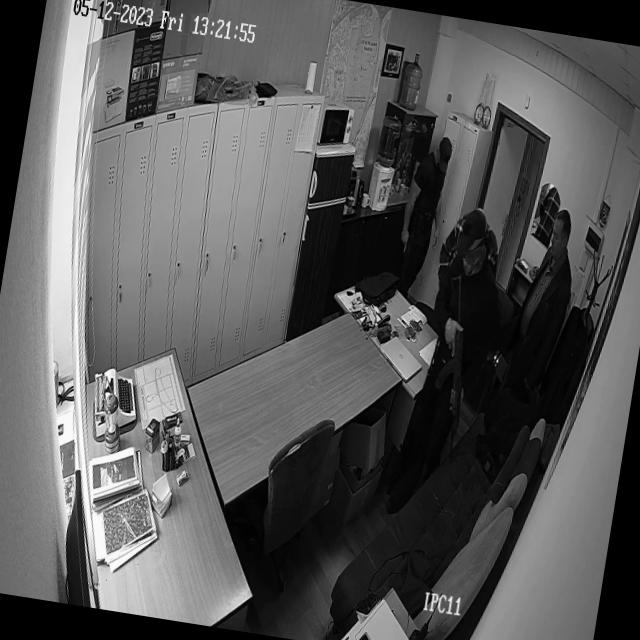gun: (416, 281, 496, 504)
person: (388, 131, 458, 297), (526, 195, 584, 332)
person with a gun: (399, 198, 510, 529)
